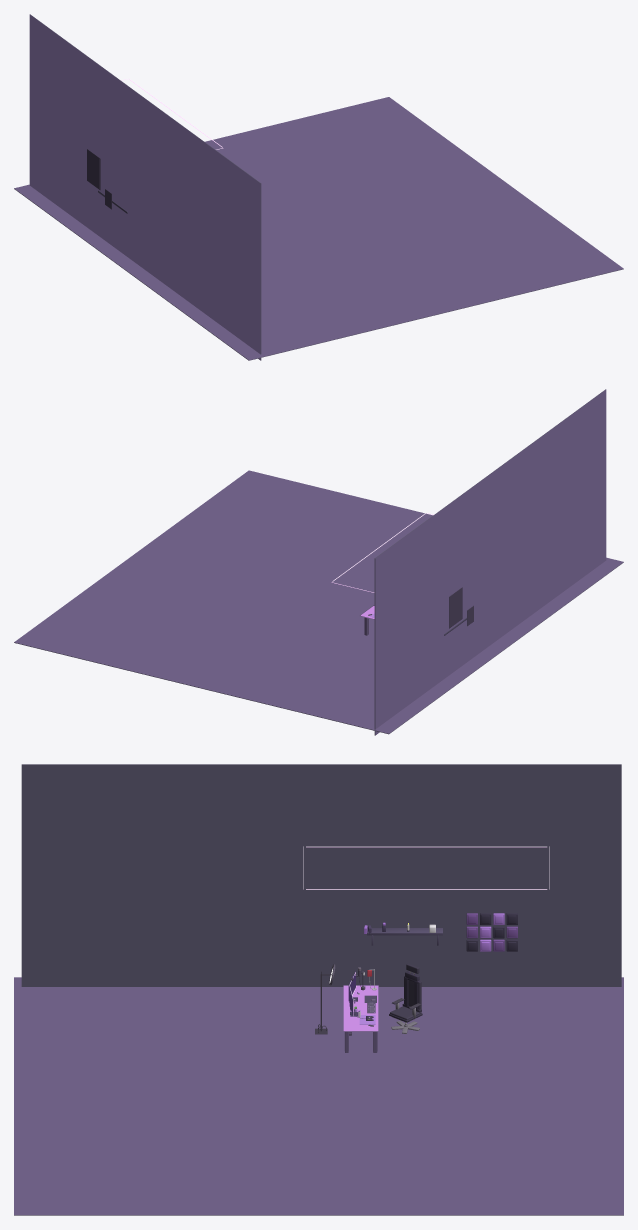
The model's file is room.glb.
3 views of the same model, one above another, from view 1: azimuth 30°, elevation 25°; view 2: azimuth 150°, elevation 25°; view 3: azimuth 270°, elevation 25° (orthographic). The views are drawn at different scales.
Visible parts, largest first — view 1: Floor, Ceiling; view 2: Floor, Ceiling; view 3: Floor, Ceiling, LED_Strip.
Boxes of the visible parts, x1=… form: Floor: x1=14, y1=97, x2=623, y2=360; Ceiling: x1=29, y1=14, x2=261, y2=360; Floor: x1=14, y1=470, x2=623, y2=734; Ceiling: x1=374, y1=389, x2=606, y2=735; Floor: x1=14, y1=977, x2=623, y2=1215; Ceiling: x1=21, y1=764, x2=621, y2=986; LED_Strip: x1=343, y1=985, x2=378, y2=1031.
Bounding box in the file's own units: 17.72 × 8 × 19.22.
